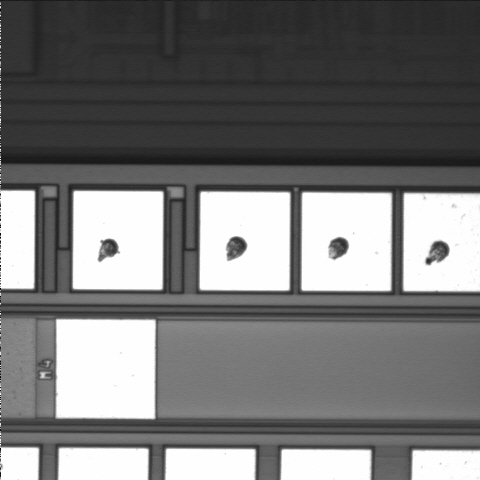pad: (56, 319, 156, 419), (73, 191, 163, 290), (200, 192, 290, 290), (302, 193, 392, 291)
